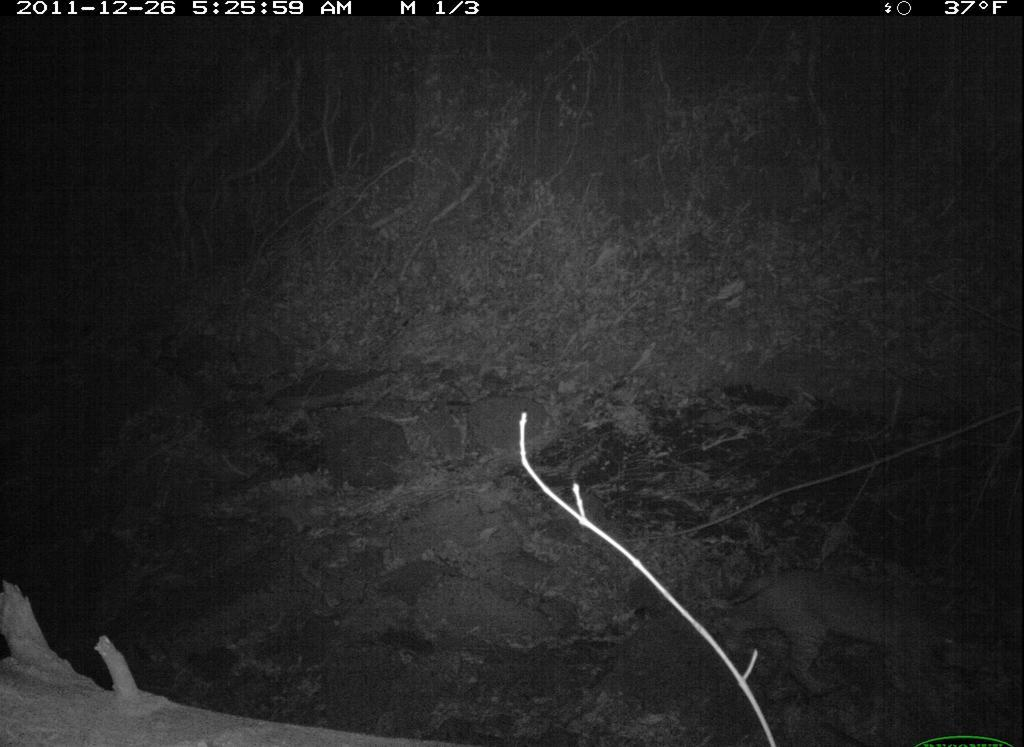bobcat: (703, 548, 969, 698)
